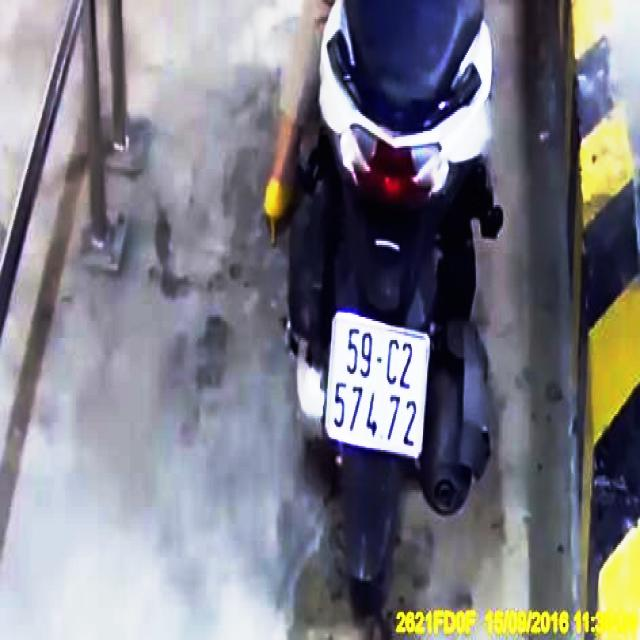license_plate: (326, 315, 431, 454)
